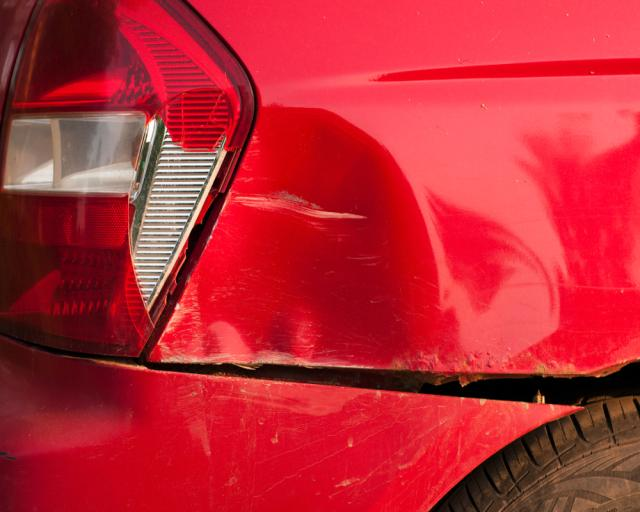dent: (151, 105, 425, 370)
